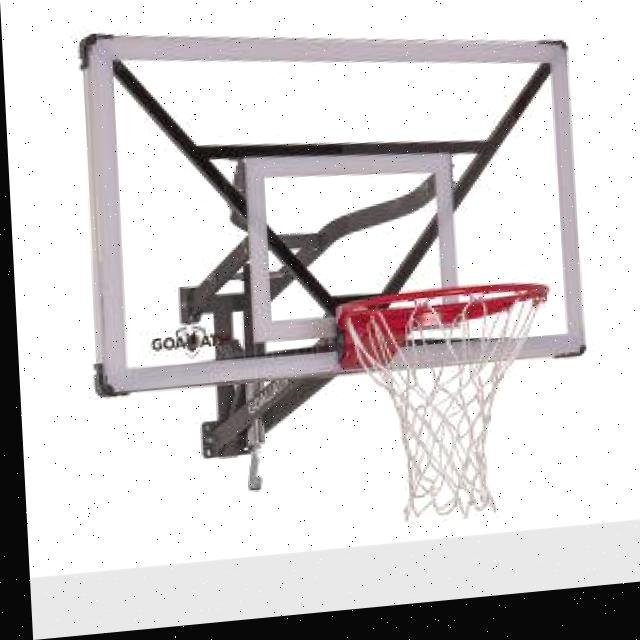hoop: (335, 277, 562, 531)
